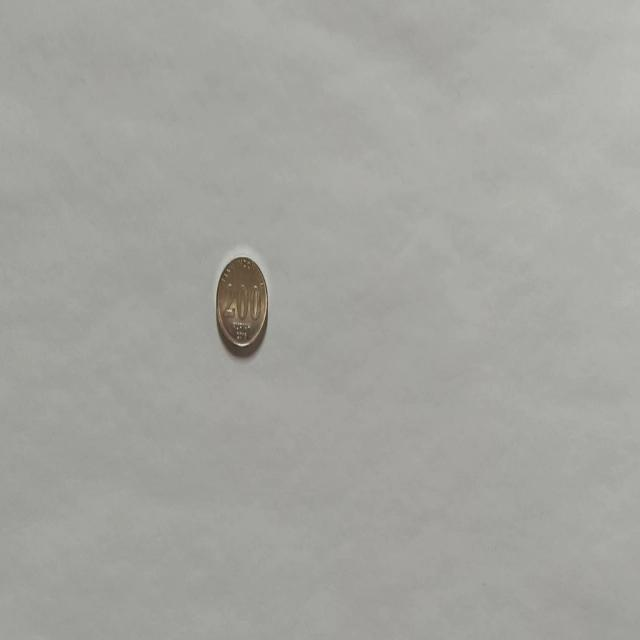dua ratus rupiah: (214, 253, 268, 351)
